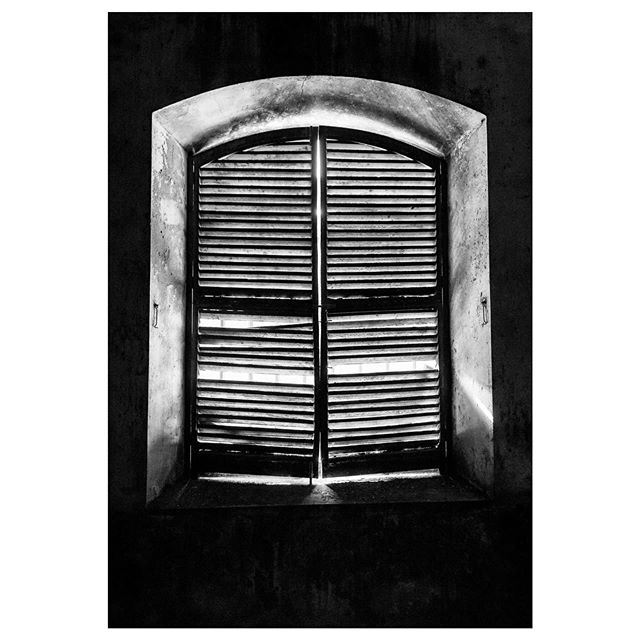window: (150, 91, 488, 513)
